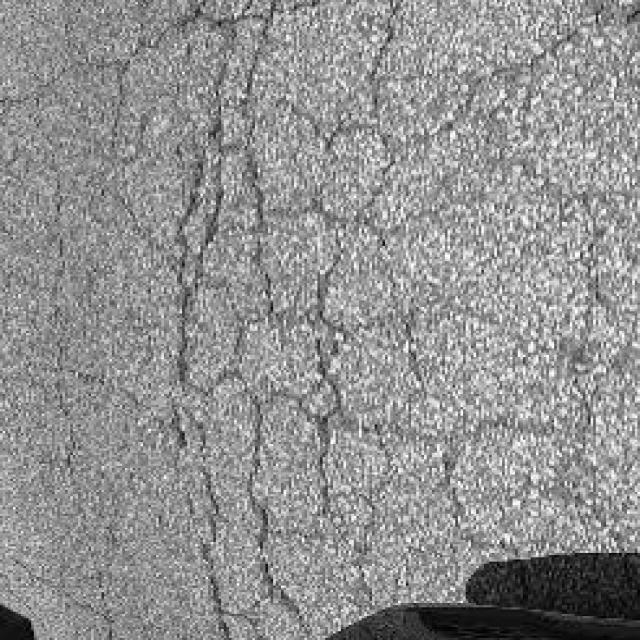GRIETA: (456, 29, 585, 116), (9, 554, 94, 609), (368, 1, 402, 121)
PIEL DE COCODRILO: (28, 9, 610, 640)
